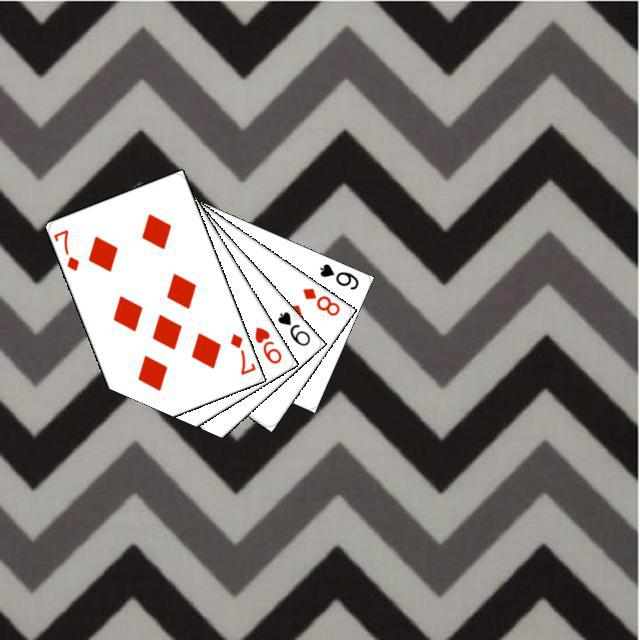6s: (315, 259, 361, 291)
7d: (225, 328, 256, 377), (50, 224, 81, 273)
8d: (297, 283, 342, 318)
9h: (250, 321, 283, 366)
9s: (273, 307, 312, 348)
